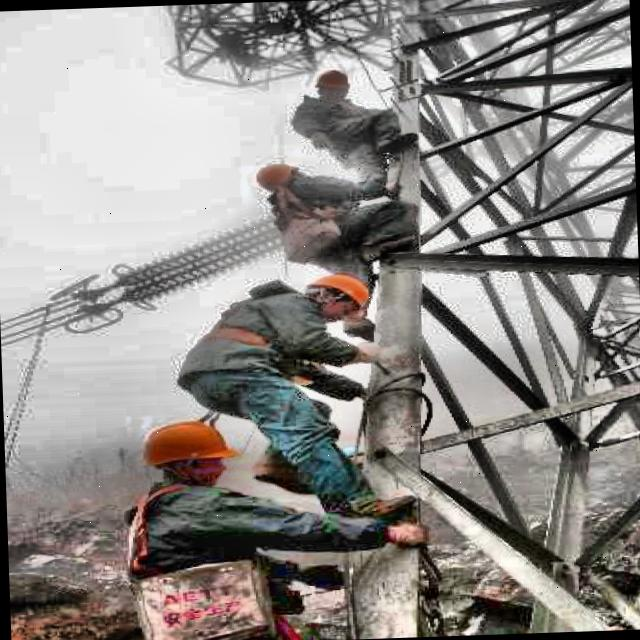helmet: (130, 412, 242, 491), (294, 266, 376, 322), (258, 160, 316, 195), (308, 60, 353, 99)
